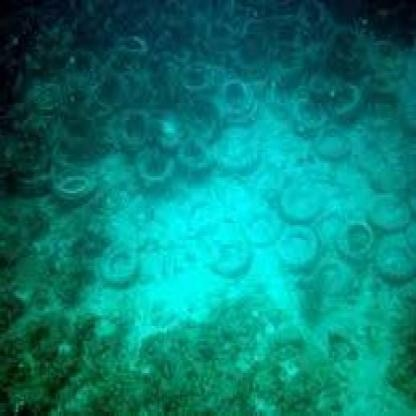tire: (213, 68, 266, 141), (53, 163, 108, 208), (140, 146, 182, 199), (339, 214, 377, 260)
